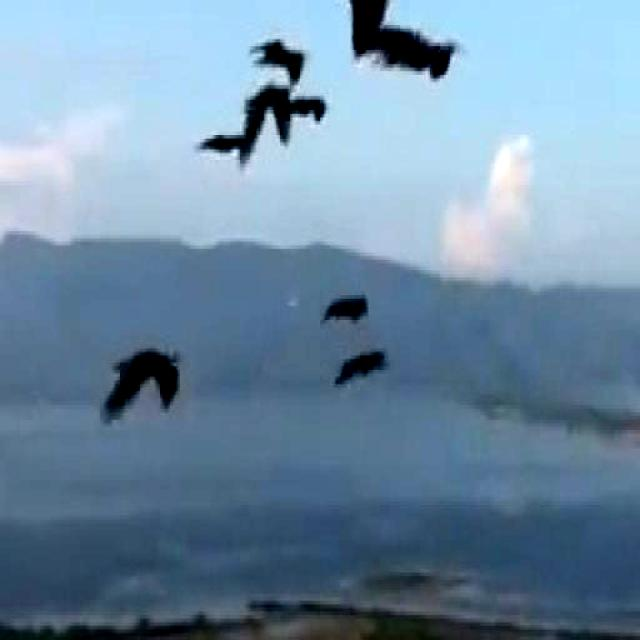airplane: (361, 18, 466, 91), (102, 340, 181, 426), (306, 0, 420, 59), (238, 80, 294, 169), (248, 30, 306, 90), (335, 341, 388, 395), (194, 129, 250, 172), (320, 285, 374, 329), (285, 91, 334, 131)
